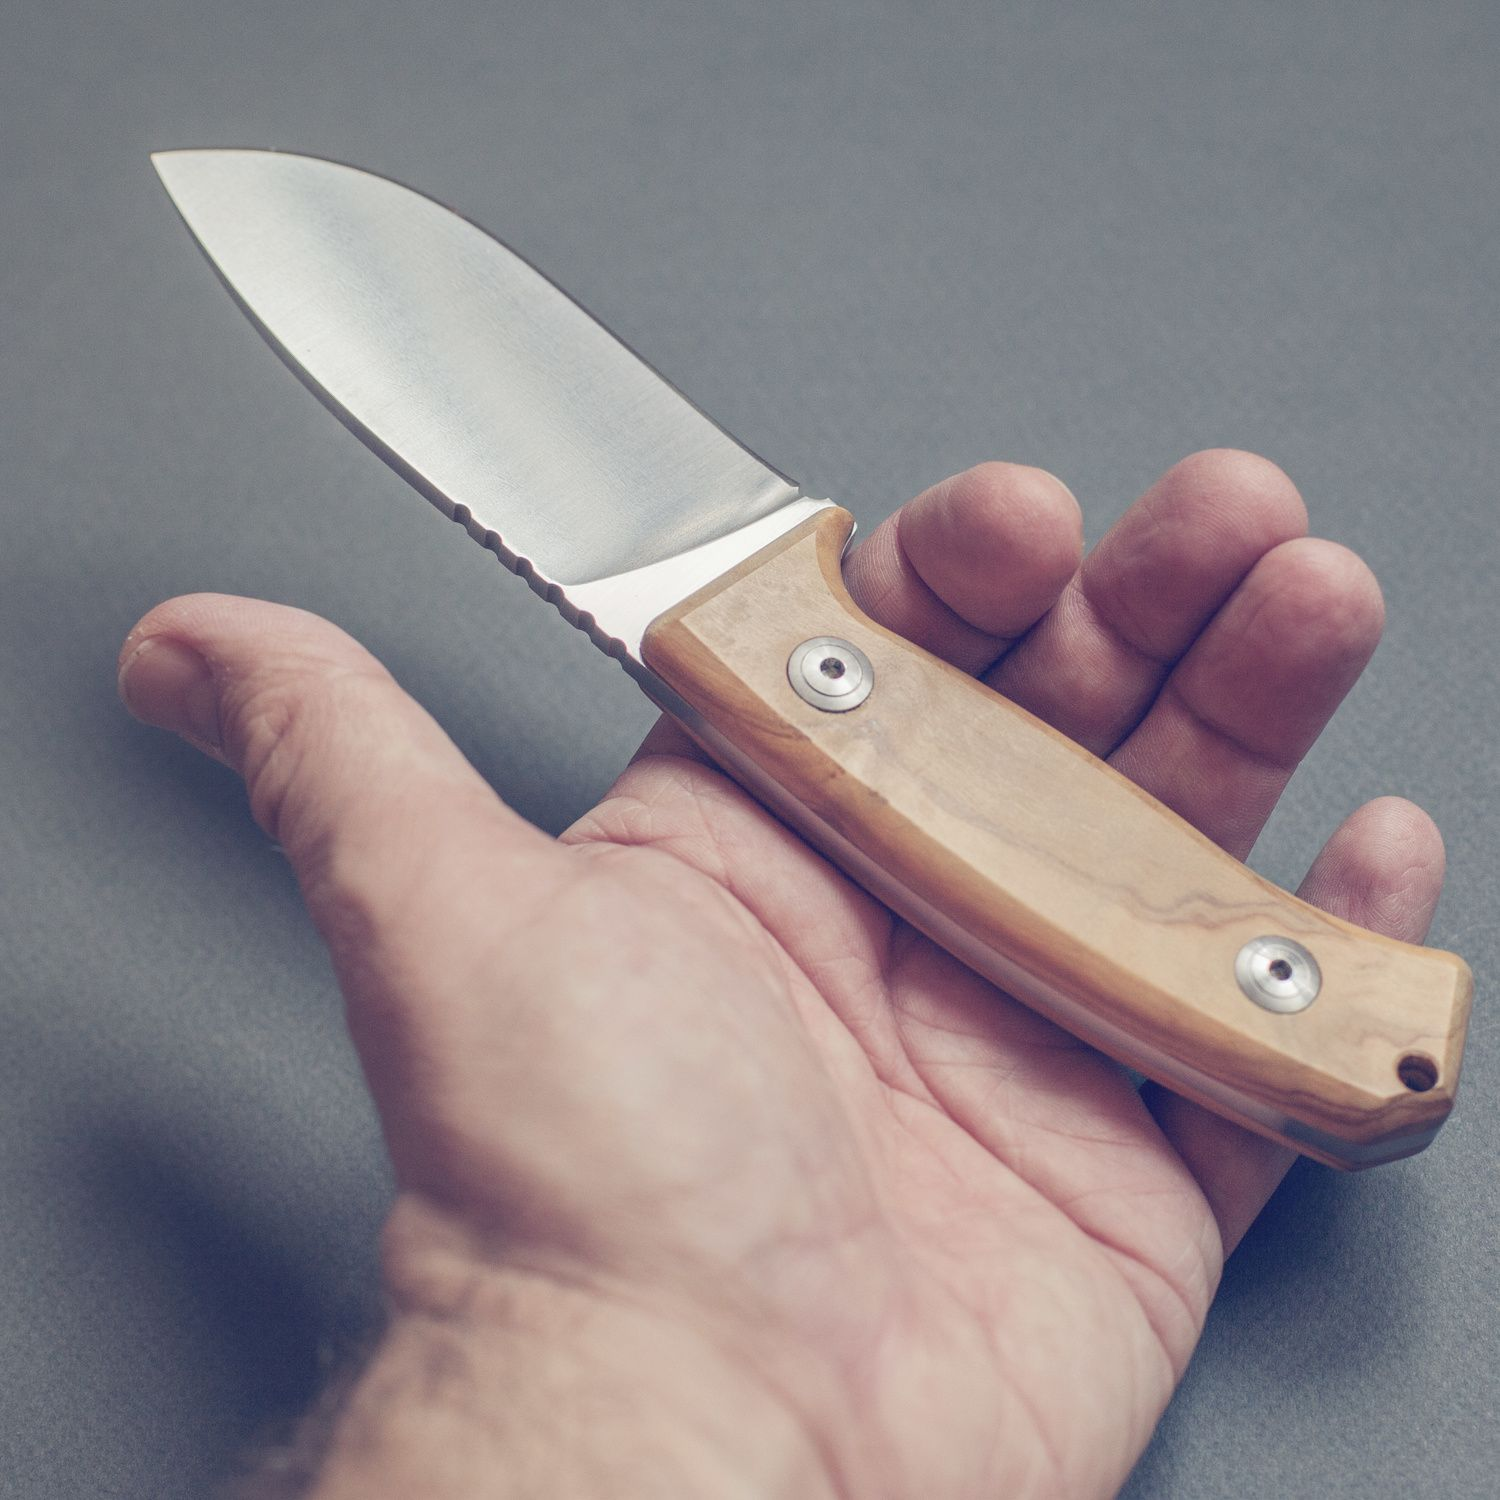knife: (120, 110, 1484, 1210)
